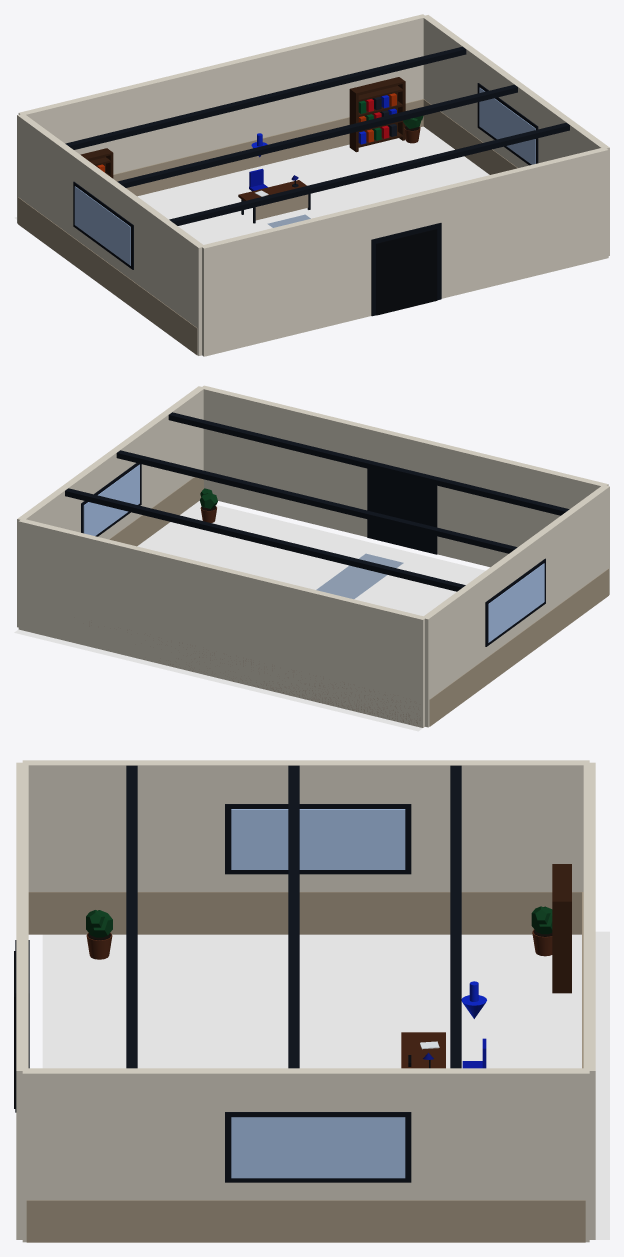
The model's file is room-interior.obj.
3 renders of one model, top to bottom at view 1: azimuth 30°, elevation 25°; view 2: azimuth 150°, elevation 25°; view 3: azimuth 270°, elevation 25°, orthographic. The views are drawn at different scales.
Visible parts, largest first — view 1: Room_BackWall_Part_0, Room_FrontExitWall_Part_10, Room_FrontExitWall_Part_11, Room_Floor, Room_LeftWall_Part_2, Room_RightWall_Part_6, Room_LeftWall_Part_3, Room_BackWall_Part_1, Room_FrontExitWall_Part_14, Room_Prop_15, Room_Prop_17, Room_Prop_16 (+9 smaller); view 2: Room_BackWall_Part_0, Room_FrontExitWall_Part_11, Room_Floor, Room_LeftWall_Part_2, Room_FrontExitWall_Part_10, Room_RightWall_Part_6, Room_LeftWall_Part_3, Room_FrontExitWall_Part_13, Room_Prop_16, Room_Prop_17, Room_Prop_15, Room_FrontExitWall_Part_12 (+6 smaller); view 3: Room_Floor, Room_RightWall_Part_6, Room_LeftWall_Part_2, Room_RightWall_Part_7, Room_LeftWall_Part_3, Room_RightWall_Part_9, Room_LeftWall_Part_5, Room_BackWall_Part_0, Room_Prop_15, Room_Prop_16, Room_Prop_17, Room_RightWall_Part_8 (+7 smaller).
Boxes of the visible parts, x1,y1,x2,y2 form: Room_BackWall_Part_0: (18, 14, 426, 174); Room_FrontExitWall_Part_10: (201, 205, 372, 356); Room_FrontExitWall_Part_11: (437, 148, 608, 298); Room_Floor: (14, 126, 489, 244); Room_LeftWall_Part_2: (17, 114, 204, 355); Room_RightWall_Part_6: (422, 15, 609, 255); Room_LeftWall_Part_3: (18, 197, 197, 354); Room_BackWall_Part_1: (113, 99, 423, 196); Room_FrontExitWall_Part_14: (376, 229, 437, 315); Room_Prop_15: (65, 46, 466, 149); Room_Prop_17: (169, 122, 569, 225); Room_Prop_16: (117, 84, 517, 187); Room_BackWall_Part_0: (18, 519, 426, 727); Room_FrontExitWall_Part_11: (201, 385, 371, 536); Room_Floor: (14, 501, 485, 731); Room_LeftWall_Part_2: (422, 485, 609, 727); Room_FrontExitWall_Part_10: (436, 443, 608, 567); Room_RightWall_Part_6: (17, 386, 204, 627); Room_LeftWall_Part_3: (429, 568, 608, 726); Room_FrontExitWall_Part_13: (367, 468, 437, 554); Room_Prop_16: (116, 450, 517, 553); Room_Prop_17: (168, 412, 569, 515); Room_Prop_15: (65, 488, 465, 591); Room_FrontExitWall_Part_12: (366, 426, 439, 476); Room_Floor: (42, 931, 609, 1239); Room_RightWall_Part_6: (22, 1068, 589, 1242); Room_LeftWall_Part_2: (22, 760, 589, 891); Room_RightWall_Part_7: (26, 1200, 585, 1242); Room_LeftWall_Part_3: (28, 892, 583, 934); Room_RightWall_Part_9: (231, 1117, 405, 1178); Room_LeftWall_Part_5: (231, 809, 405, 869); Room_BackWall_Part_0: (583, 762, 595, 1239); Room_Prop_15: (450, 765, 461, 1068); Room_Prop_16: (288, 765, 299, 1068); Room_Prop_17: (126, 765, 137, 1068); Room_RightWall_Part_8: (225, 1112, 411, 1182).
Bounding box in the file's own units: 18.42 × 4.72 × 14.71.
